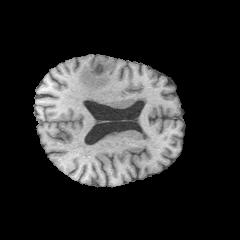glioma: (79, 55, 115, 95)
